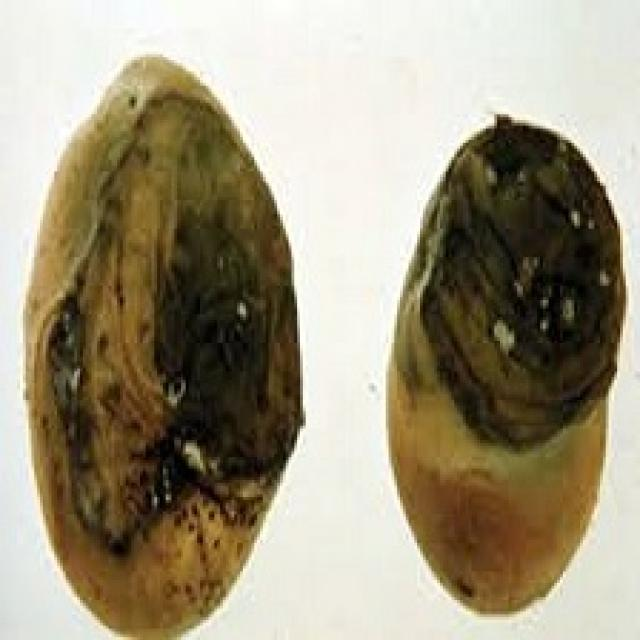Wet Waste: (77, 83, 541, 457)
